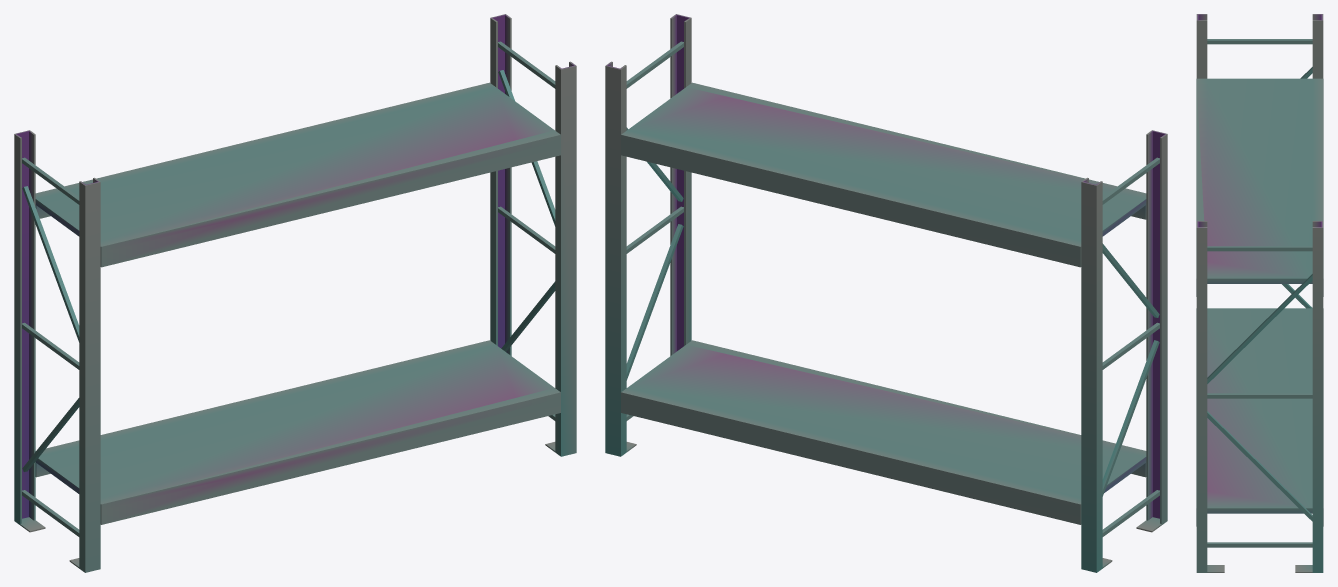
File: simready-rack_long_empty_a01.glb
The picture shows the model from 3 angles, left to right: view 1: azimuth 30°, elevation 25°; view 2: azimuth 150°, elevation 25°; view 3: azimuth 270°, elevation 25°; orthographic projection. The views are drawn at different scales.
Visible parts, largest first — view 1: deck, deck.001, folded_upright, folded_upright.002, folded_upright.001, folded_upright.003, diagonal_brace.001; view 2: deck.001, deck, folded_upright.001, folded_upright.003, folded_upright, folded_upright.002, diagonal_brace.002, diagonal_brace; view 3: deck.001, deck, folded_upright.002, folded_upright.003, diagonal_brace.003, diagonal_brace.002, folded_upright, folded_upright.001, horizontal_brace.002, horizontal_brace.003, horizontal_brace.004, horizontal_brace.005.
Boxes of the visible parts, x1=… form: deck: x1=35, y1=340, x2=560, y2=524; deck.001: x1=35, y1=82, x2=560, y2=267; folded_upright: x1=79, y1=177, x2=100, y2=572; folded_upright.002: x1=555, y1=61, x2=576, y2=456; folded_upright.001: x1=14, y1=130, x2=35, y2=524; folded_upright.003: x1=490, y1=14, x2=511, y2=355; diagonal_brace.001: x1=22, y1=186, x2=79, y2=342; deck.001: x1=621, y1=82, x2=1146, y2=267; deck: x1=621, y1=340, x2=1146, y2=524; folded_upright.001: x1=1081, y1=177, x2=1102, y2=572; folded_upright.003: x1=605, y1=61, x2=626, y2=456; folded_upright: x1=1146, y1=130, x2=1167, y2=524; folded_upright.002: x1=670, y1=14, x2=691, y2=355; diagonal_brace.002: x1=626, y1=224, x2=683, y2=380; diagonal_brace: x1=1102, y1=340, x2=1159, y2=496; deck.001: x1=1196, y1=78, x2=1323, y2=296; deck: x1=1196, y1=308, x2=1323, y2=526; folded_upright.002: x1=1196, y1=221, x2=1207, y2=572; folded_upright.003: x1=1312, y1=221, x2=1323, y2=572; diagonal_brace.003: x1=1207, y1=274, x2=1312, y2=383; diagonal_brace.002: x1=1207, y1=411, x2=1312, y2=521; folded_upright: x1=1196, y1=14, x2=1207, y2=78; folded_upright.001: x1=1312, y1=14, x2=1323, y2=78; horizontal_brace.002: x1=1207, y1=39, x2=1312, y2=44; horizontal_brace.003: x1=1207, y1=542, x2=1312, y2=547; horizontal_brace.004: x1=1207, y1=393, x2=1312, y2=398; horizontal_brace.005: x1=1207, y1=246, x2=1312, y2=251.
Size of the model in its own units: 4 by 3.01 by 1.
